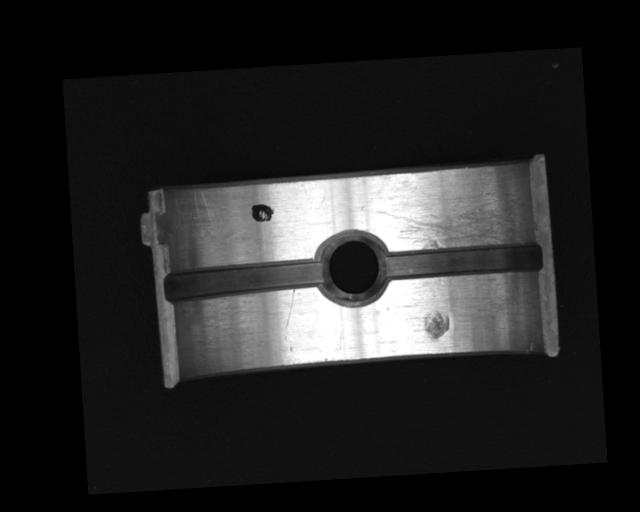blot: (250, 202, 274, 223)
bruise: (423, 309, 451, 340)
gap: (162, 257, 329, 305), (380, 241, 543, 283)
hole: (317, 229, 392, 309)
nick: (280, 288, 297, 340)
scratch: (374, 187, 533, 253)
